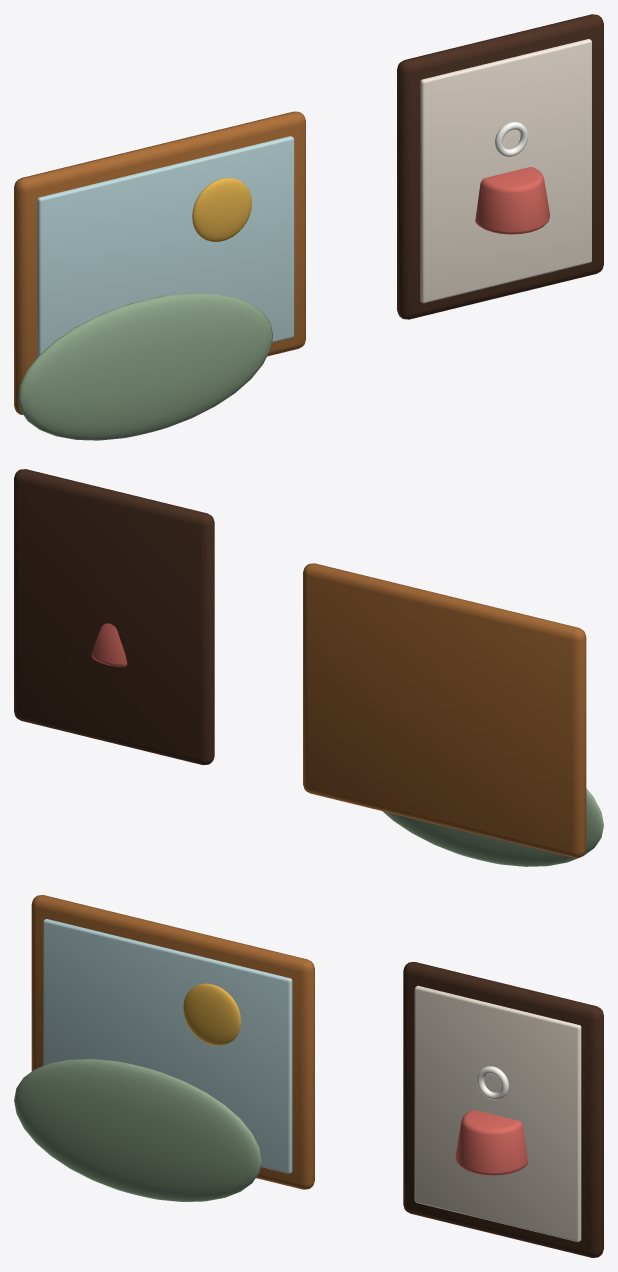
The model's file is cadres.glb.
The picture shows the model from 3 angles, top to bottom: view 1: azimuth 30°, elevation 25°; view 2: azimuth 150°, elevation 25°; view 3: azimuth 330°, elevation 25°; orthographic projection. The views are drawn at different scales.
Parts seen in each view (by area): view 1: fond1, fond2, colline, cadre2, cadre1, tasse_dessin, soleil, vapeur; view 2: cadre1, cadre2, colline, tasse_dessin; view 3: fond1, fond2, colline, cadre2, cadre1, tasse_dessin, soleil, vapeur.
Part boxes in pixels (box(x1,y1,x2,y2)): fond1: box(37, 136, 294, 357); fond2: box(420, 39, 591, 303); colline: box(18, 293, 273, 440); cadre2: box(397, 14, 603, 319); cadre1: box(14, 111, 305, 414); tasse_dessin: box(475, 167, 549, 234); soleil: box(192, 178, 251, 241); vapeur: box(495, 122, 528, 156); cadre1: box(303, 563, 586, 857); cadre2: box(14, 469, 214, 764); colline: box(382, 788, 603, 866); tasse_dessin: box(91, 623, 127, 666); fond1: box(43, 919, 292, 1173); fond2: box(414, 985, 581, 1241); colline: box(14, 1059, 261, 1201); cadre2: box(403, 962, 603, 1257); cadre1: box(31, 895, 314, 1189); tasse_dessin: box(455, 1110, 527, 1175); soleil: box(183, 983, 240, 1045); vapeur: box(476, 1066, 508, 1100).
Size of the model in its own units: 1.4 by 0.67 by 0.157.
